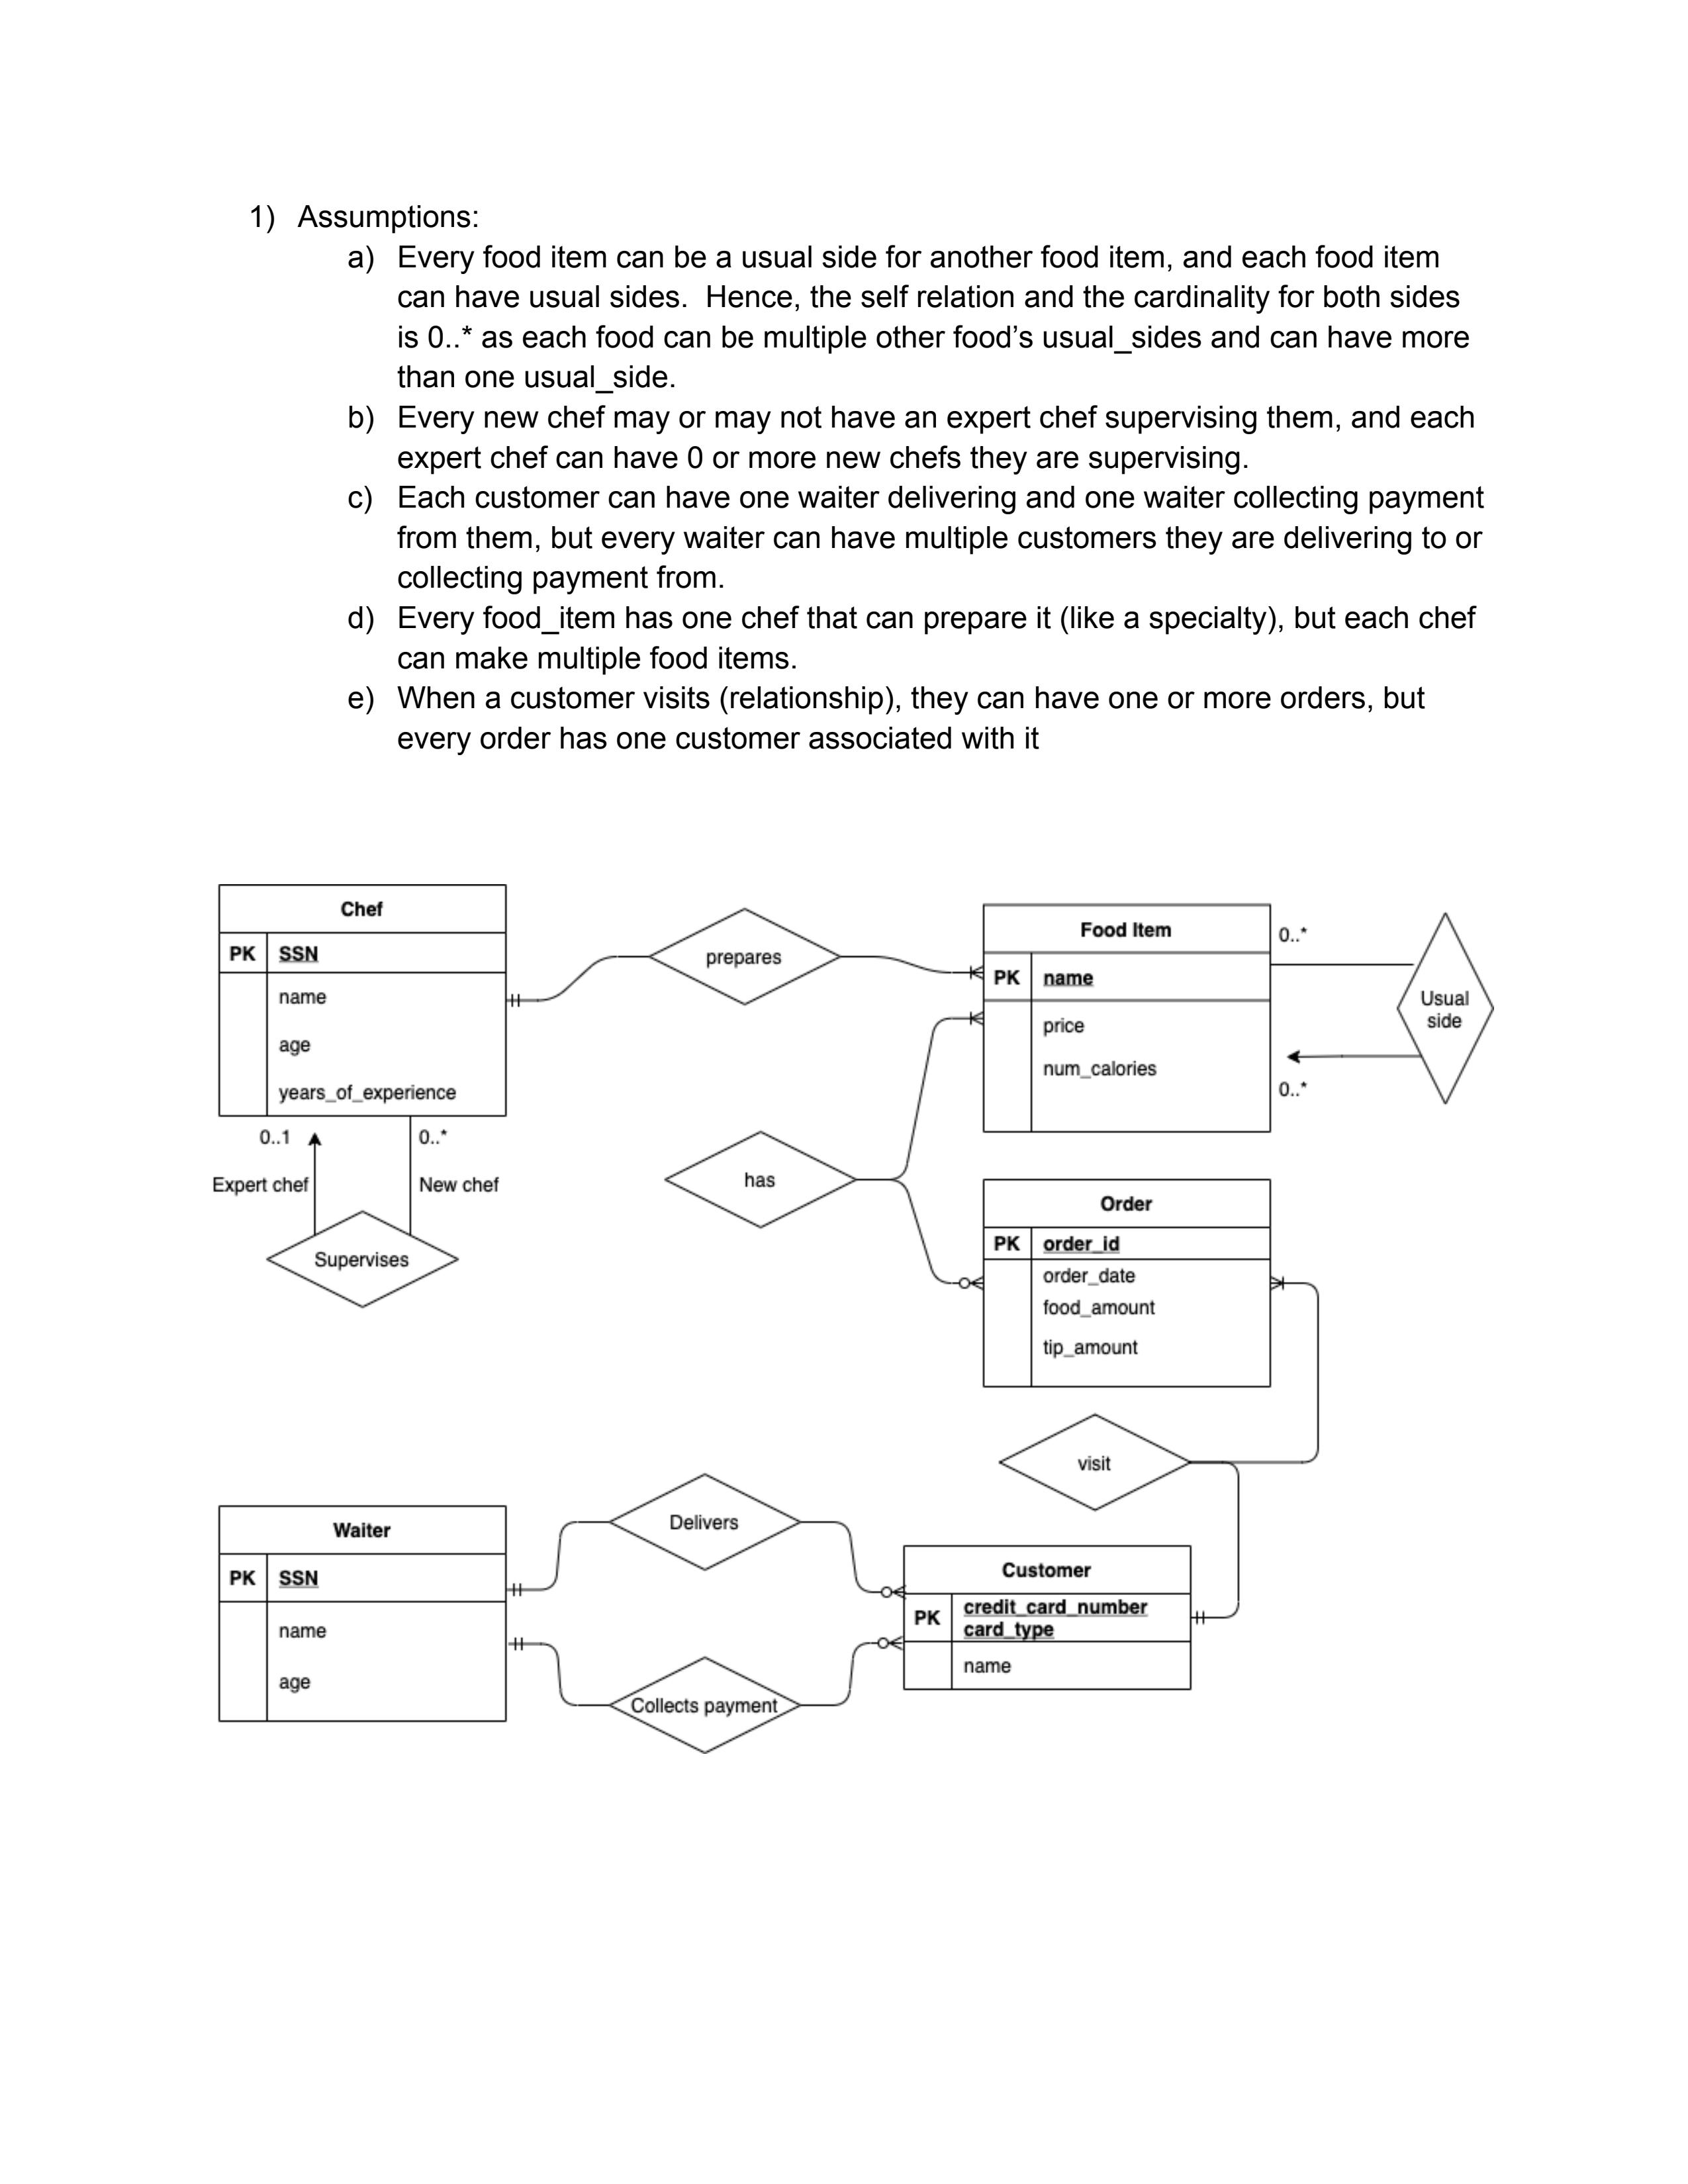Entity: (202, 1496, 518, 1732), (211, 876, 509, 1124), (975, 901, 1273, 1140), (975, 1174, 1278, 1397), (894, 1539, 1199, 1702)
Relationship: (661, 1124, 862, 1236), (1392, 909, 1498, 1110), (995, 1411, 1192, 1519), (606, 1654, 801, 1760), (608, 1468, 800, 1576), (264, 1207, 459, 1312), (647, 906, 844, 1007)
